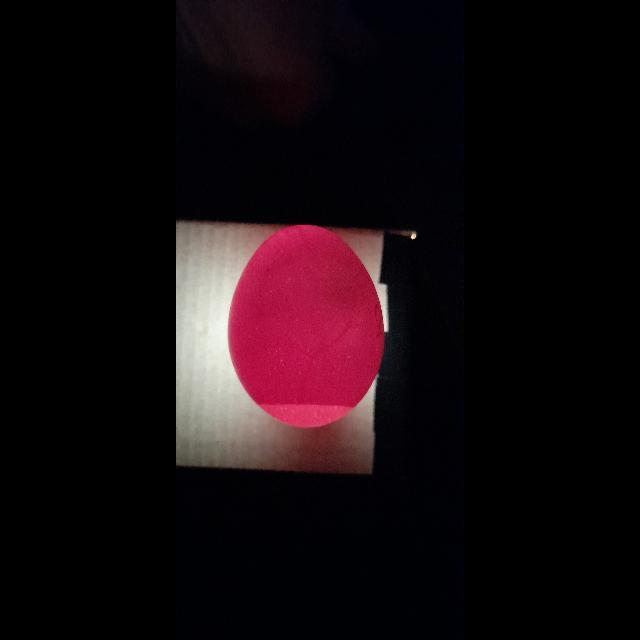Fertile: (234, 223, 382, 432)
